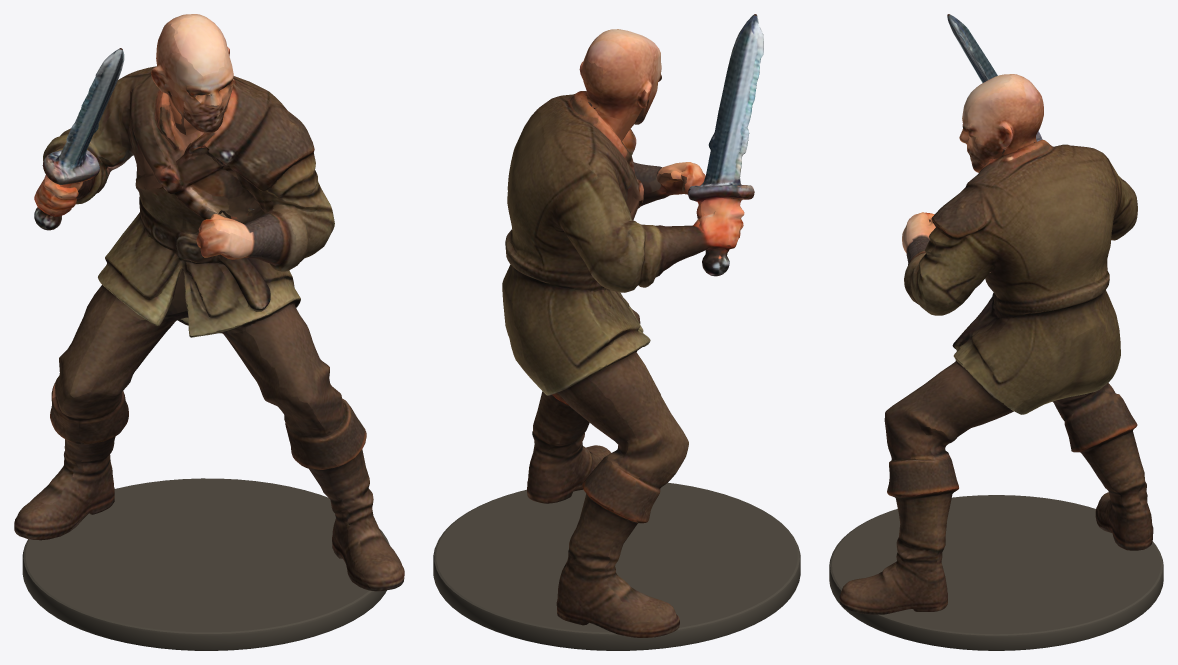
File: human-bandit-bald.glb
The picture shows the model from 3 angles, left to right: view 1: azimuth 30°, elevation 25°; view 2: azimuth 150°, elevation 25°; view 3: azimuth 270°, elevation 25°; orthographic projection. The views are drawn at different scales.
Visible parts, largest first — view 1: human-bandit-bald_body, human-bandit-bald_round_base; view 2: human-bandit-bald_body, human-bandit-bald_round_base; view 3: human-bandit-bald_body, human-bandit-bald_round_base.
Part boxes in pixels (left/top/right/bottom): human-bandit-bald_body: left=14, top=14, right=404, bottom=591; human-bandit-bald_round_base: left=22, top=478, right=389, bottom=650; human-bandit-bald_body: left=502, top=14, right=763, bottom=637; human-bandit-bald_round_base: left=433, top=482, right=800, bottom=650; human-bandit-bald_body: left=839, top=14, right=1153, bottom=614; human-bandit-bald_round_base: left=829, top=495, right=1163, bottom=650.
Size of the model in its own units: 1 by 1.71 by 1.
Materials: 2 (1 with a texture image).
